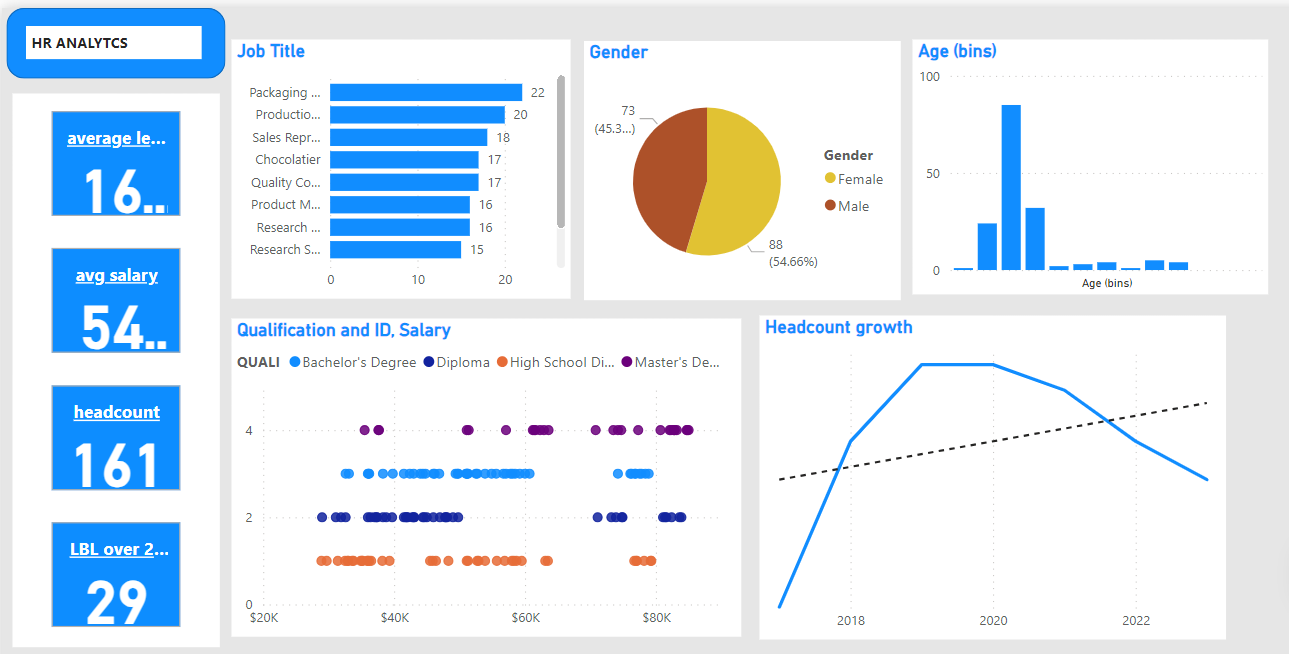

The dashboard page shown, as its layout file describes it:
{"tool":"powerbi","page":{"name":"Page 10","canvas":[1280,720],"ordinal":9},"visuals":[{"type":"cardVisual","fields":{"Data":["data.average leaf balance","data.avg salary","data.headcount","data.LBL over 20 days"]},"box":[9.7,79.2,191.7,512.5],"z":0},{"type":"clusteredBarChart","title":"Job Title","fields":{"Category":["data.Job Title"],"Y":["data.Measure"]},"box":[212.5,29.2,313.9,240.3],"z":1},{"type":"pieChart","title":"Gender","fields":{"Category":["data.Gender"],"Y":["data.Measure"]},"box":[538.9,30.6,293.1,240.3],"z":2},{"type":"columnChart","title":"Age (bins)","fields":{"Y":["data.Measure"],"Category":["data.Age (bins)"]},"box":[843.1,29.2,329.2,236.1],"z":3},{"type":"scatterChart","title":"Qualification and ID, Salary","fields":{"X":["data.Salary"],"Y":["QUALIFICATION DIM ID.QUALI ID"],"Series":["QUALIFICATION DIM ID.QUALI"]},"box":[212.5,287.5,472.2,294.4],"z":4},{"type":"lineChart","title":"Headcount growth","fields":{"Category":["data.Date of Join.Variation.Date Hierarchy.Year","data.Date of Join.Variation.Date Hierarchy.Quarter","data.Date of Join.Variation.Date Hierarchy.Month","data.Date of Join.Variation.Date Hierarchy.Day"],"Y":["data.Measure"]},"box":[701.4,284.7,431.9,300],"z":5},{"type":"shape","box":[4.2,0,202.8,65.3],"z":6},{"type":"textbox","box":[22.2,16.7,162.5,30.6],"z":7}]}

Visuals, with their boxes on the page's 1280x720 design canvas (x1, y1, x2, y2). These are canvas units, not pixel positions in the 1289x654 screenshot, which may show the page scaled, cropped or inside an application window:
cardVisual - data.average leaf balance x data.avg salary: BBox(10, 79, 201, 592)
"Job Title" clusteredBarChart: BBox(212, 29, 526, 270)
"Gender" pieChart: BBox(539, 31, 832, 271)
"Age (bins)" columnChart: BBox(843, 29, 1172, 265)
"Qualification and ID, Salary" scatterChart: BBox(212, 288, 685, 582)
"Headcount growth" lineChart: BBox(701, 285, 1133, 585)
shape: BBox(4, 0, 207, 65)
textbox: BBox(22, 17, 185, 47)
